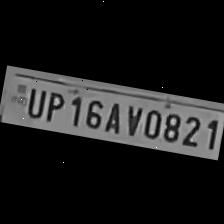0: (137, 103, 163, 140)
1: (62, 90, 86, 127), (198, 113, 222, 150)
2: (178, 110, 203, 148)
6: (80, 93, 106, 130)
8: (158, 107, 182, 144)
A: (100, 96, 126, 134)
P: (41, 86, 66, 124)
U: (22, 82, 46, 119)
V: (119, 99, 143, 138)
